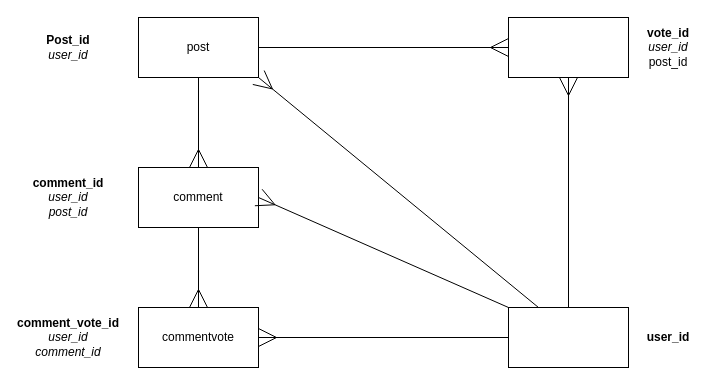
This 715x385 diagram has some shape labels left out. The centre of each missing label's shape, as x and y in pixels:
"postvote" goes at (x=568, y=47).
"user" goes at (x=568, y=337).
